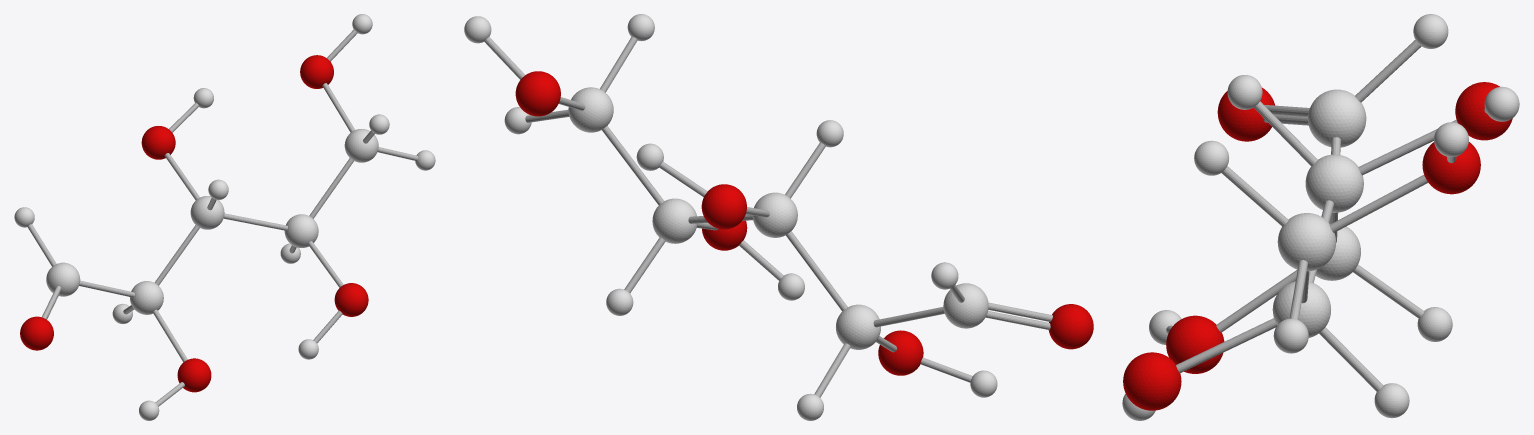
3 renders of one model, left to right at view 1: azimuth 30°, elevation 25°; view 2: azimuth 150°, elevation 25°; view 3: azimuth 270°, elevation 25°, orthographic. The views are drawn at different scales.
Visible parts, largest first — view 1: world; view 2: world; view 3: world.
Boxes of the visible parts, x1,y1,x2,y2 form: world: (14, 14, 435, 420); world: (464, 14, 1093, 420); world: (1122, 14, 1519, 420).
Size of the model in its own units: 7.22 by 4.42 by 3.4.
